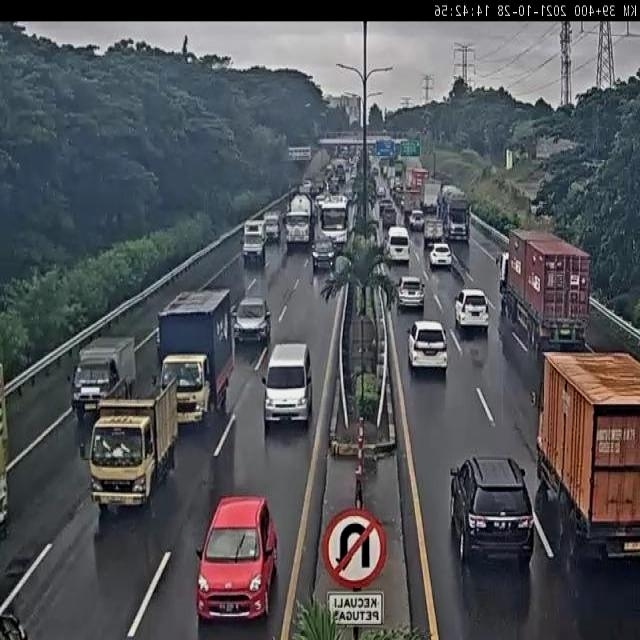Bus: (316, 194, 349, 248)
Car: (194, 494, 282, 631), (449, 453, 536, 562), (405, 318, 450, 375), (235, 296, 272, 348), (453, 290, 490, 334), (394, 274, 428, 313), (312, 235, 337, 270), (429, 241, 454, 269), (264, 212, 282, 242), (410, 210, 424, 228)
Truck: (528, 351, 640, 568), (79, 378, 178, 518), (496, 229, 590, 351), (154, 287, 232, 428), (66, 335, 141, 425), (436, 178, 470, 241), (284, 187, 316, 253), (240, 218, 268, 264), (421, 177, 441, 213)
Van: (261, 338, 316, 432), (383, 226, 411, 267)
